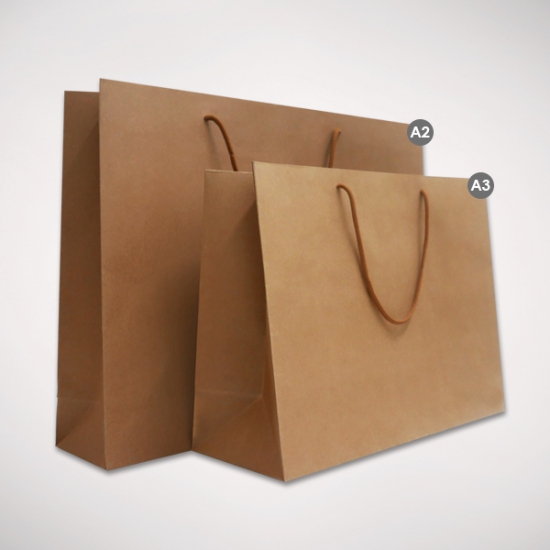Rec_Paper: (47, 73, 438, 477), (184, 154, 520, 496)
